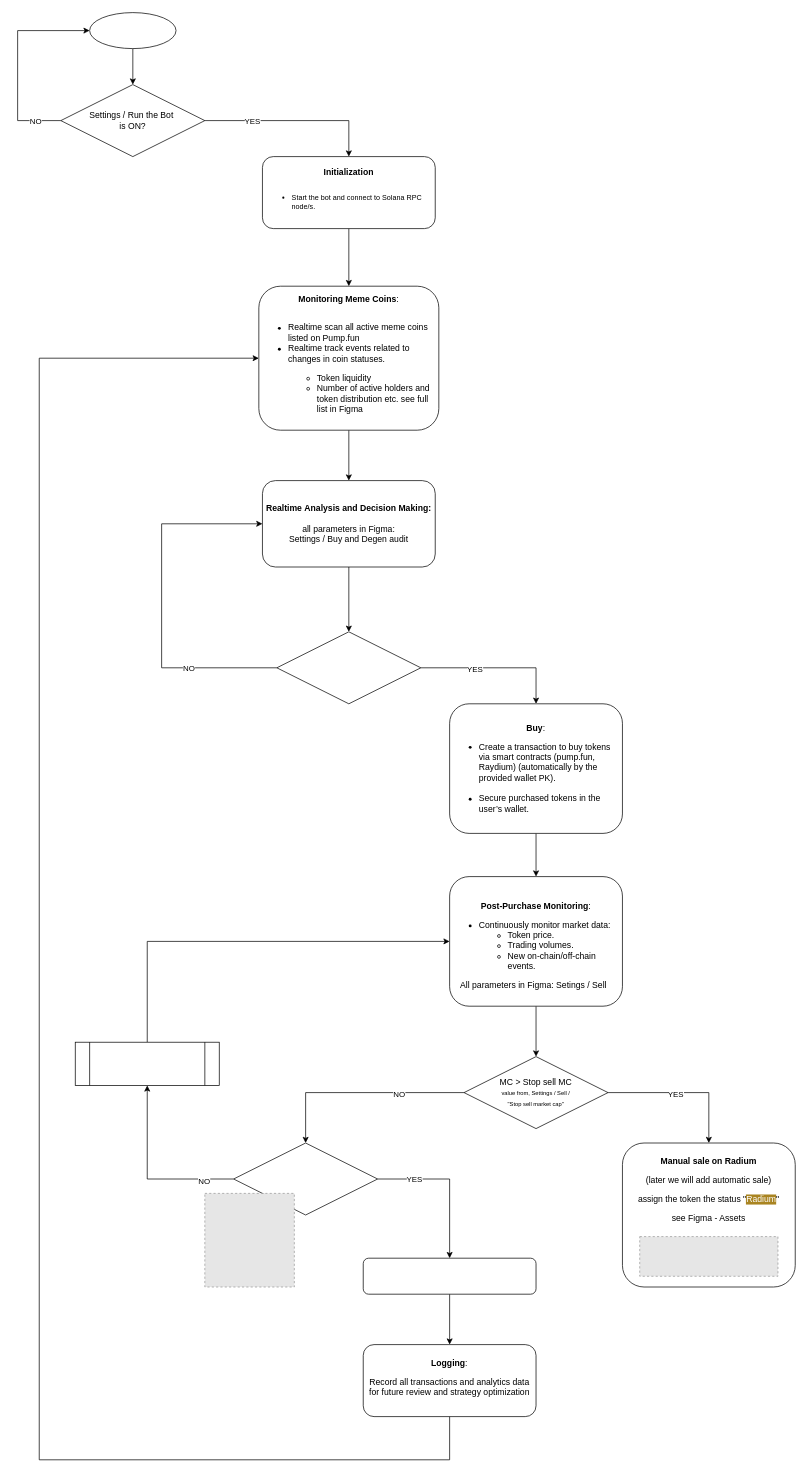
Some shapes in this 808 by 1478 pixel diagram are drawn without their labels. Grey dashed boxes stand in for pictures. The centre of each missing label's shape, as x and y in pixels:
"Are the purchase conditions met?" goes at [348,667].
"Loop until exit conditions are met." goes at [147,1063].
"Sell" goes at [449,1275].
"Sell conditions are met? see Figma / Settings / Sell" goes at [305,1178].
"Start" goes at [132,30].
